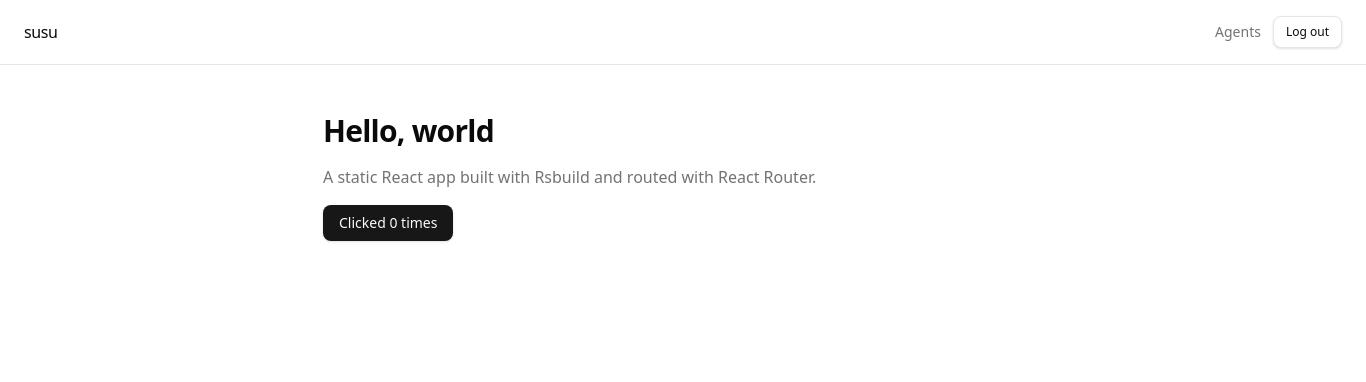
Test: access › the nav link goes to the page
Click the link "Agents" at (1238, 32), box x1=1215 y1=22 x2=1261 y2=42
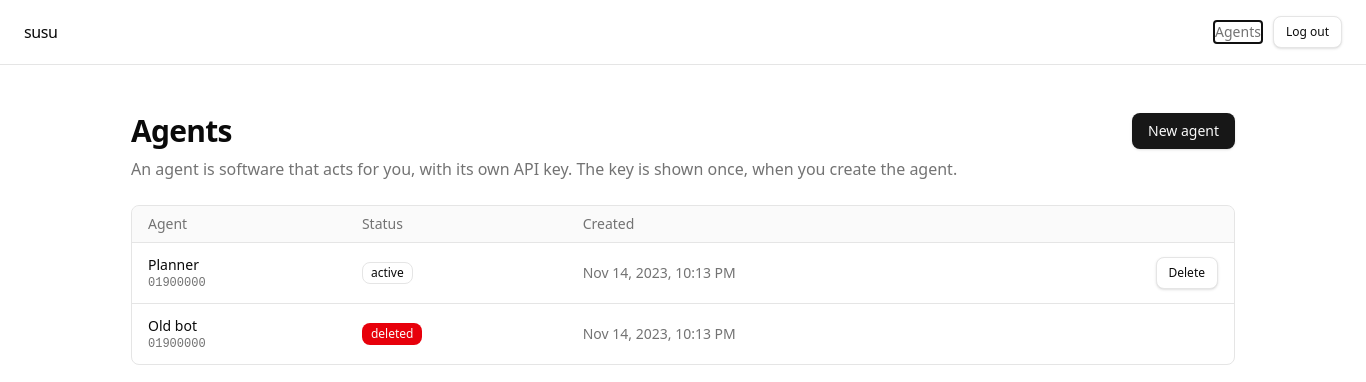
Expected: the heading "Agents" is shown, x1=131 y1=110 x2=232 y2=151
Expected: the text "Planner" is shown, x1=148 y1=255 x2=199 y2=274
